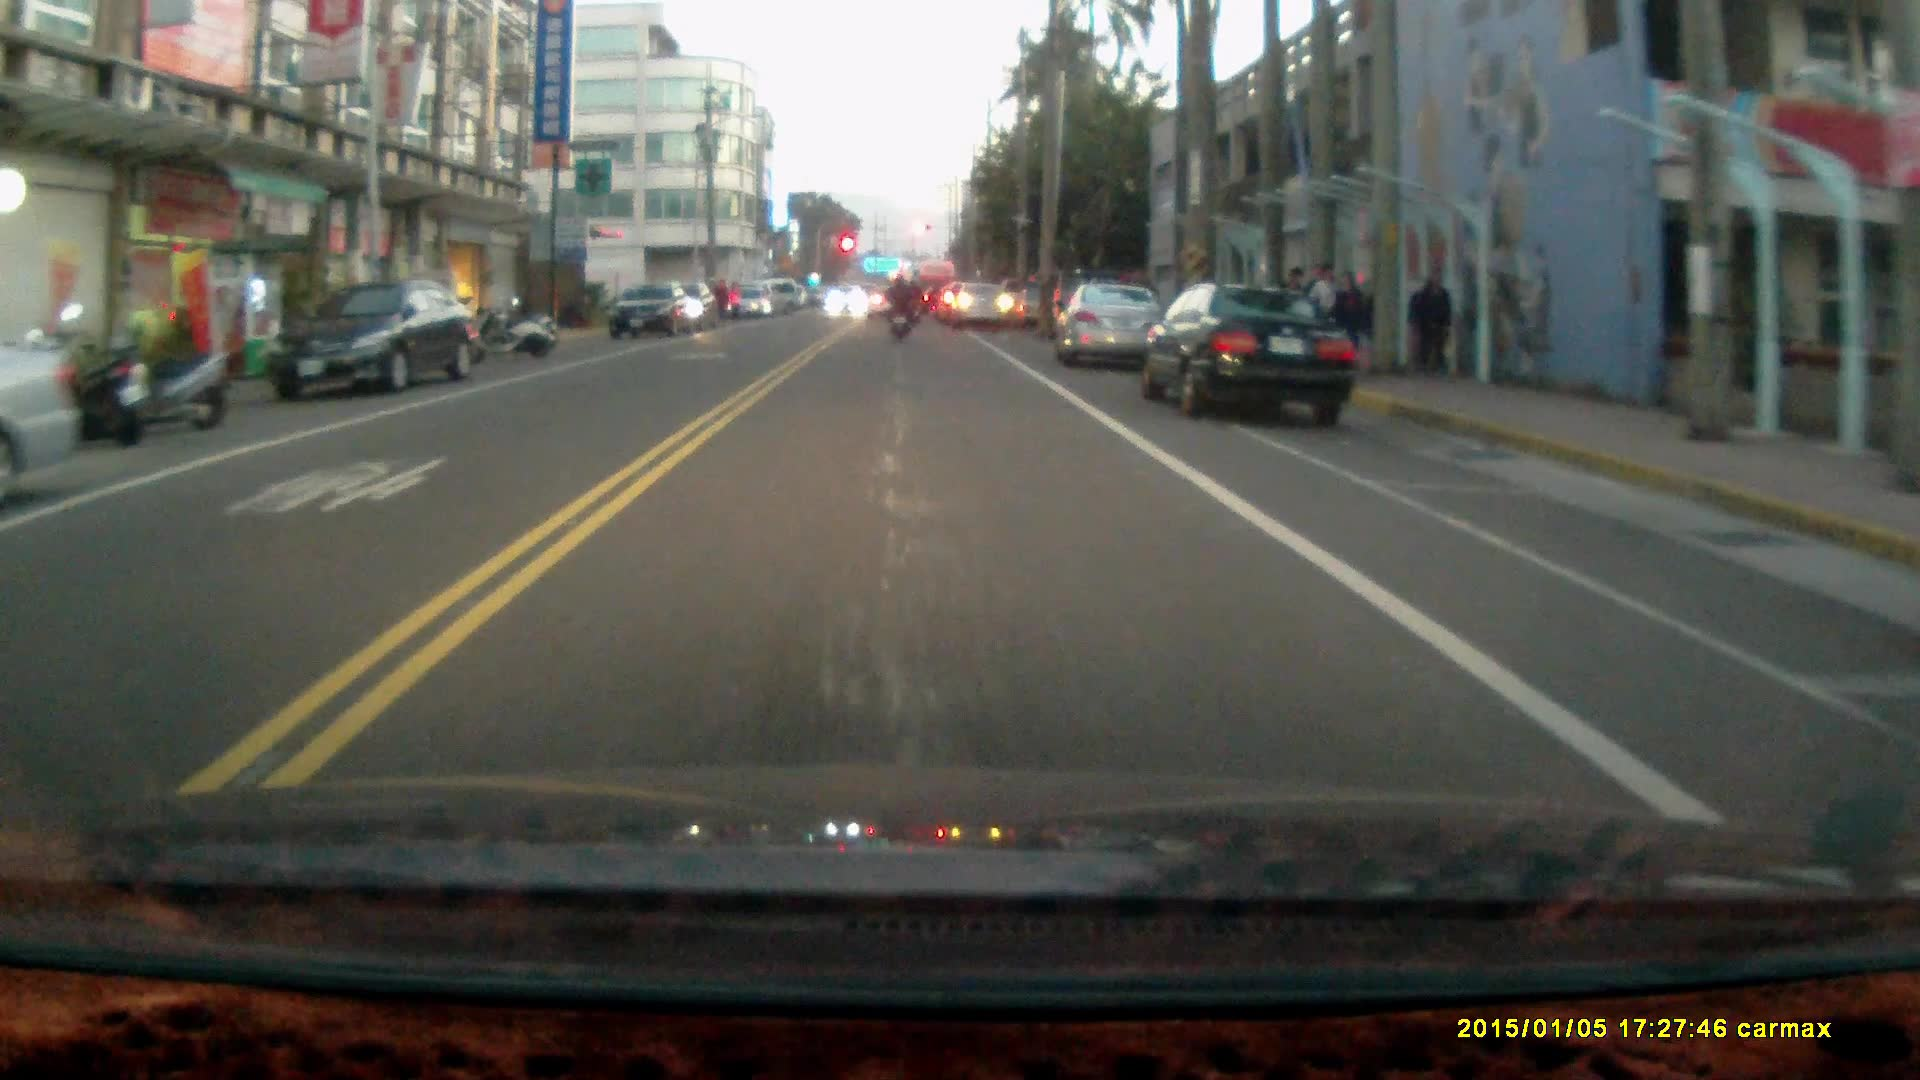pedestrian: (1406, 267, 1456, 380), (1321, 269, 1367, 370), (1308, 260, 1343, 359)
rider: (882, 272, 913, 344)
vehicle: (1140, 282, 1365, 434), (270, 281, 476, 403), (1, 339, 82, 485), (1057, 291, 1173, 382), (606, 282, 705, 342), (961, 286, 1017, 336)
